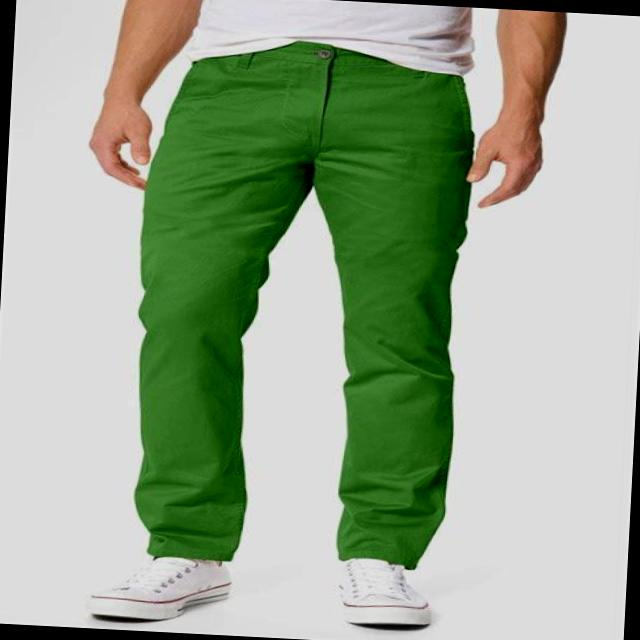pants: (123, 34, 477, 572)
